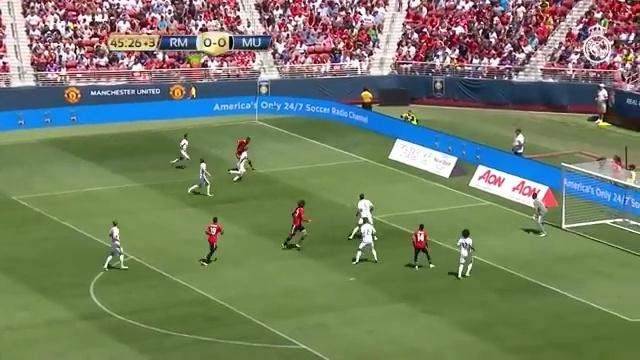player: (282, 200, 310, 249), (103, 221, 127, 270), (199, 217, 223, 265), (348, 193, 373, 239), (352, 218, 377, 264), (412, 224, 434, 269), (456, 229, 474, 278), (188, 158, 211, 195), (532, 192, 547, 236), (171, 133, 189, 167), (228, 151, 248, 181), (235, 137, 250, 159)
